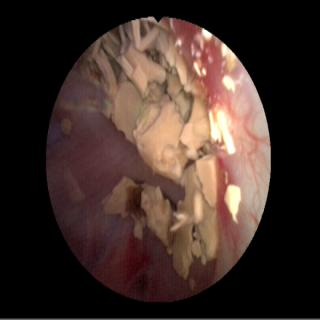stone: (88, 19, 211, 183), (100, 153, 218, 278), (208, 108, 235, 155), (224, 185, 241, 223)
tissue: (47, 73, 214, 297), (217, 83, 268, 276)
